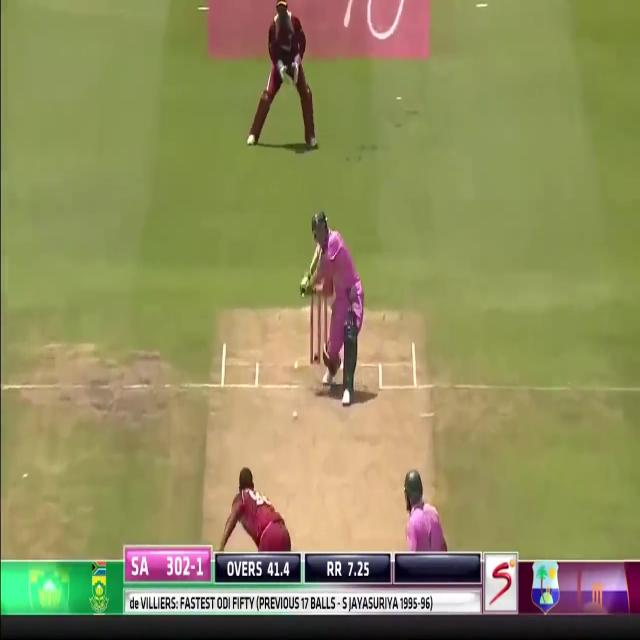Ball: (306, 212, 366, 398), (404, 470, 449, 554)
Fielder: (257, 0, 312, 146), (218, 466, 293, 551)
